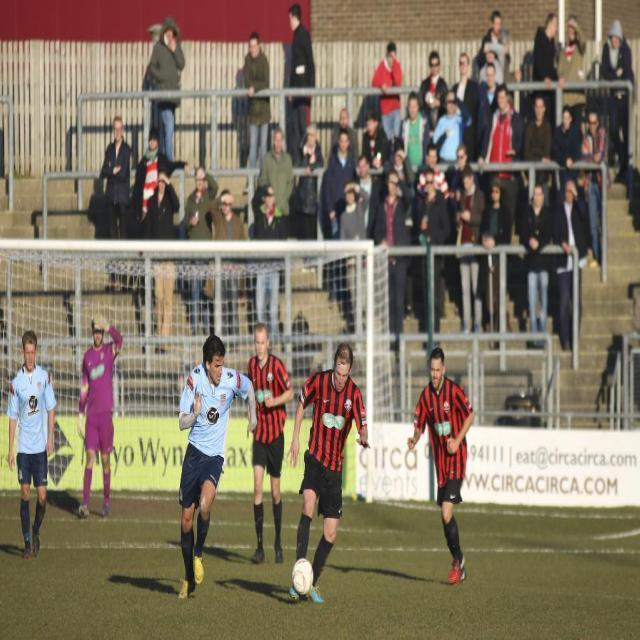ball: (290, 557, 316, 596)
